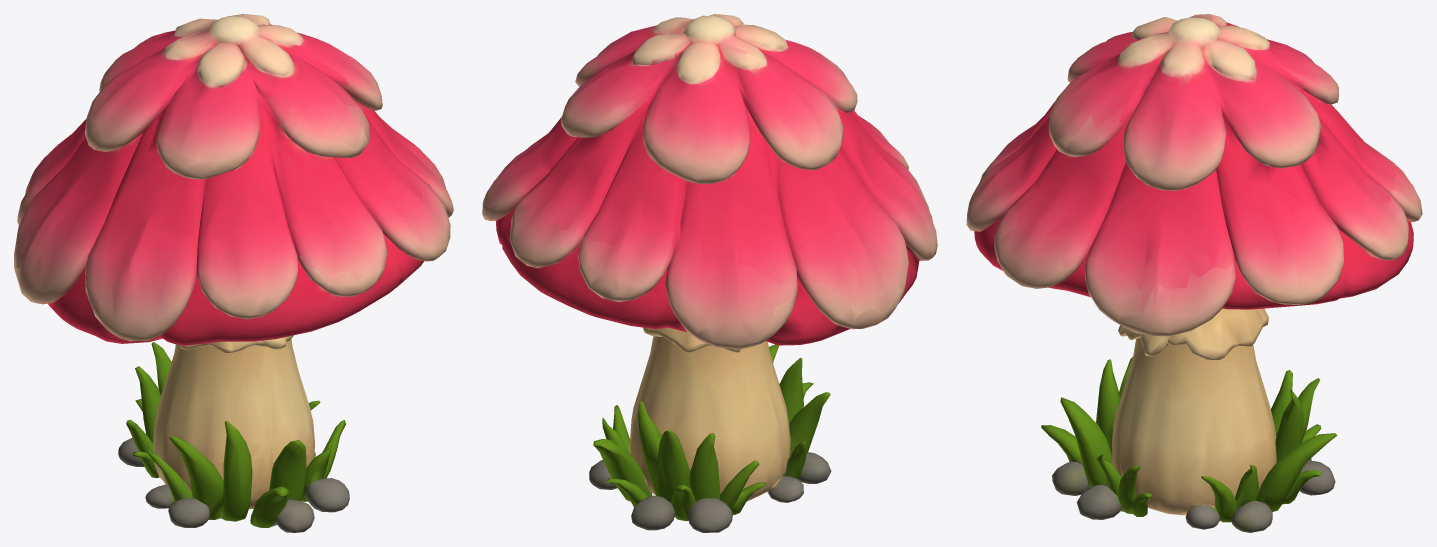
The model's file is shroom_pink.glb.
The picture shows the model from 3 angles, left to right: view 1: azimuth 30°, elevation 25°; view 2: azimuth 150°, elevation 25°; view 3: azimuth 270°, elevation 25°; orthographic projection.
Parts seen in each view (by area): view 1: tripo_node_eca8ebae-9043-4f51-a3df-da58bef8e393; view 2: tripo_node_eca8ebae-9043-4f51-a3df-da58bef8e393; view 3: tripo_node_eca8ebae-9043-4f51-a3df-da58bef8e393.
Boxes of the visible parts, x1,y1,x2,y2 form: tripo_node_eca8ebae-9043-4f51-a3df-da58bef8e393: [14, 14, 453, 532]; tripo_node_eca8ebae-9043-4f51-a3df-da58bef8e393: [482, 14, 937, 532]; tripo_node_eca8ebae-9043-4f51-a3df-da58bef8e393: [966, 14, 1422, 532].
Size of the model in its own units: 1.31 by 1.5 by 1.32.
1 material, 1 textured.
